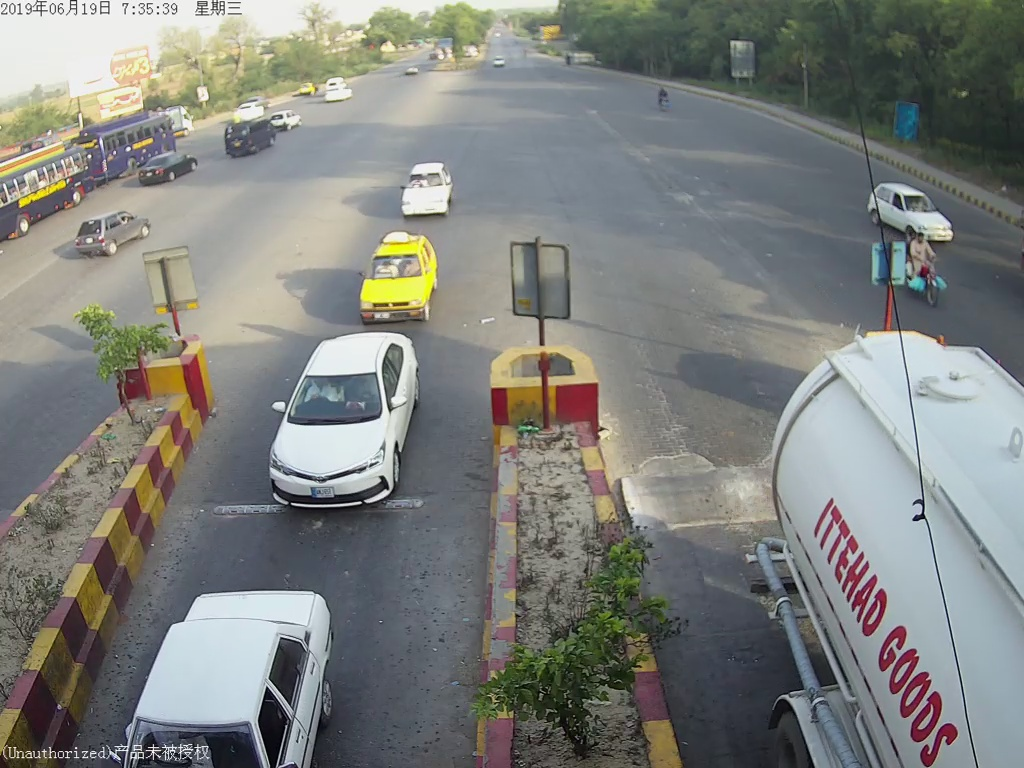Cat-1: (268, 329, 436, 505), (353, 229, 443, 322), (395, 164, 456, 222)
